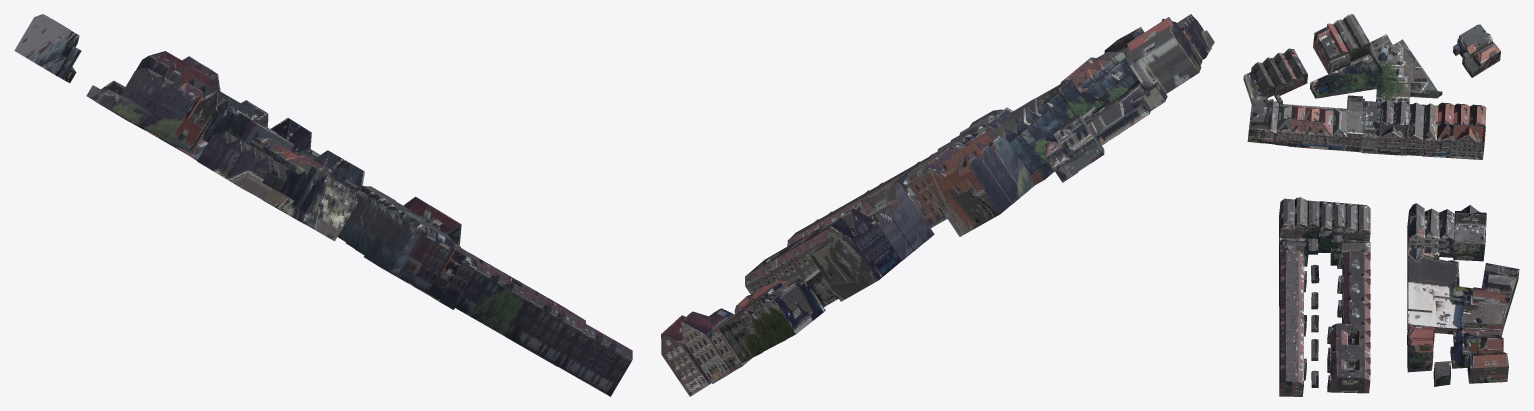
The model's file is 17-134310-27736-0-tex512.glb.
The picture shows the model from 3 angles, left to right: view 1: azimuth 30°, elevation 25°; view 2: azimuth 150°, elevation 25°; view 3: azimuth 270°, elevation 25°; orthographic projection. The views are drawn at different scales.
Parts seen in each view (by area): view 1: BAG_0599100000671717, BAG_0599100000760381, BAG_0599100000700986, BAG_0599100000688733, BAG_0599100000650091, BAG_0599100000656917, BAG_0599100000688758, BAG_0599100000688713, BAG_0599100000688681, BAG_0599100000688727, BAG_0599100000688746, BAG_0599100000656926 (+13 smaller); view 2: BAG_0599100000760365 (×2), BAG_0599100000671723, BAG_0599100000656917, BAG_0599100010058326 (×2), BAG_0599100000760474, BAG_0599100000760481, BAG_0599100000603392, BAG_0599100000767277 (×2), BAG_0599100000671589 (×2), BAG_0599100000760366, BAG_0599100000671599, BAG_0599100000760477 (+18 smaller); view 3: BAG_0599100000760489, BAG_0599100010058326 (×2), BAG_0599100000656917 (×2), BAG_0599100000688733 (×2), BAG_0599100000767277, BAG_0599100000671723, BAG_0599100000603392, BAG_0599100000760474 (×2), BAG_0599100000760381, BAG_0599100000760477, BAG_0599100000760365 (×2), BAG_0599100000671694 (+50 smaller).
Part boxes in pixels (x1,y1,x2,y2): BAG_0599100000671717: (383, 222, 455, 294); BAG_0599100000760381: (143, 80, 216, 153); BAG_0599100000700986: (287, 166, 357, 241); BAG_0599100000688733: (558, 321, 632, 396); BAG_0599100000650091: (14, 14, 75, 75); BAG_0599100000656917: (112, 68, 174, 138); BAG_0599100000688758: (455, 258, 502, 322); BAG_0599100000688713: (507, 288, 554, 352); BAG_0599100000688681: (481, 272, 528, 337); BAG_0599100000688727: (533, 305, 579, 366); BAG_0599100000688746: (428, 254, 476, 309); BAG_0599100000656926: (240, 156, 286, 195); BAG_0599100000760365 (×2): (926, 152, 1012, 236); BAG_0599100000671723: (810, 211, 901, 301); BAG_0599100000656917: (1126, 25, 1201, 93); BAG_0599100010058326 (×2): (1044, 82, 1167, 148); BAG_0599100000760474: (681, 311, 733, 383); BAG_0599100000760481: (764, 277, 819, 339); BAG_0599100000603392: (661, 315, 711, 396); BAG_0599100000767277 (×2): (985, 98, 1063, 145); BAG_0599100000671589 (×2): (860, 182, 934, 241); BAG_0599100000760366: (939, 142, 1024, 204); BAG_0599100000671599: (951, 132, 1036, 193); BAG_0599100000760477: (719, 300, 762, 362); BAG_0599100000760489: (1407, 254, 1473, 333); BAG_0599100010058326 (×2): (1370, 34, 1442, 103); BAG_0599100000656917 (×2): (1333, 14, 1381, 91); BAG_0599100000688733 (×2): (1279, 337, 1306, 396); BAG_0599100000767277: (1378, 100, 1409, 155); BAG_0599100000671723: (1453, 211, 1486, 261); BAG_0599100000603392: (1467, 352, 1508, 383); BAG_0599100000760474 (×2): (1450, 336, 1503, 368); BAG_0599100000760381: (1313, 23, 1350, 73); BAG_0599100000760477: (1460, 301, 1508, 336); BAG_0599100000760365 (×2): (1466, 104, 1486, 159); BAG_0599100000671694: (1345, 95, 1364, 152).
Size of the model in its own units: 137 by 109 by 107.
Materials: 3 (2 with a texture image).
